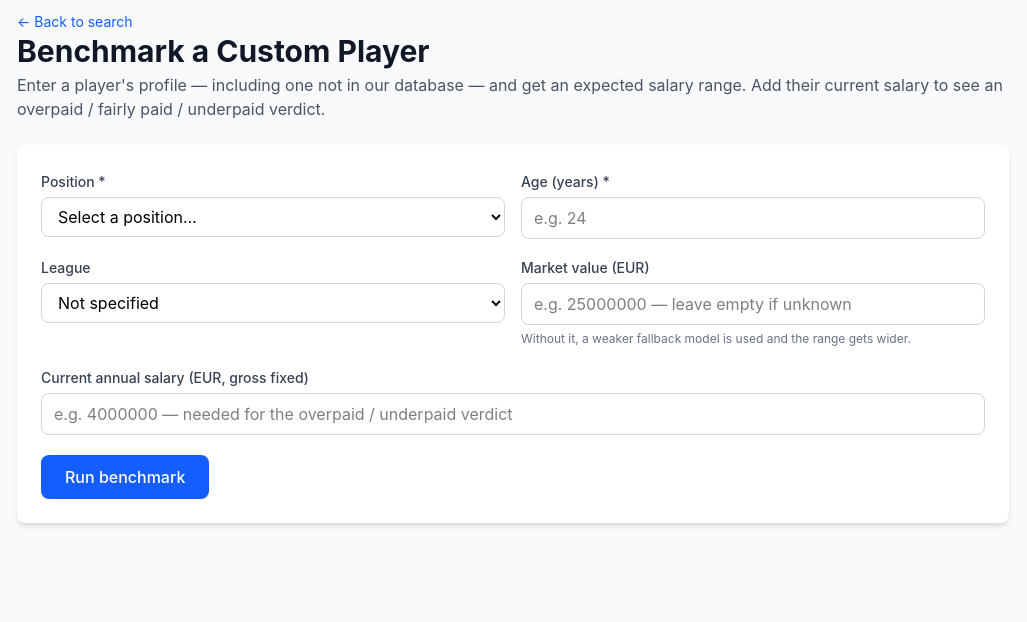
Test: ManualBenchmark page › shows the backend error message when the benchmark fails
Select "Centre-Forward" in the dropdown labelled "Position *": (273, 217) [41,197,505,237]
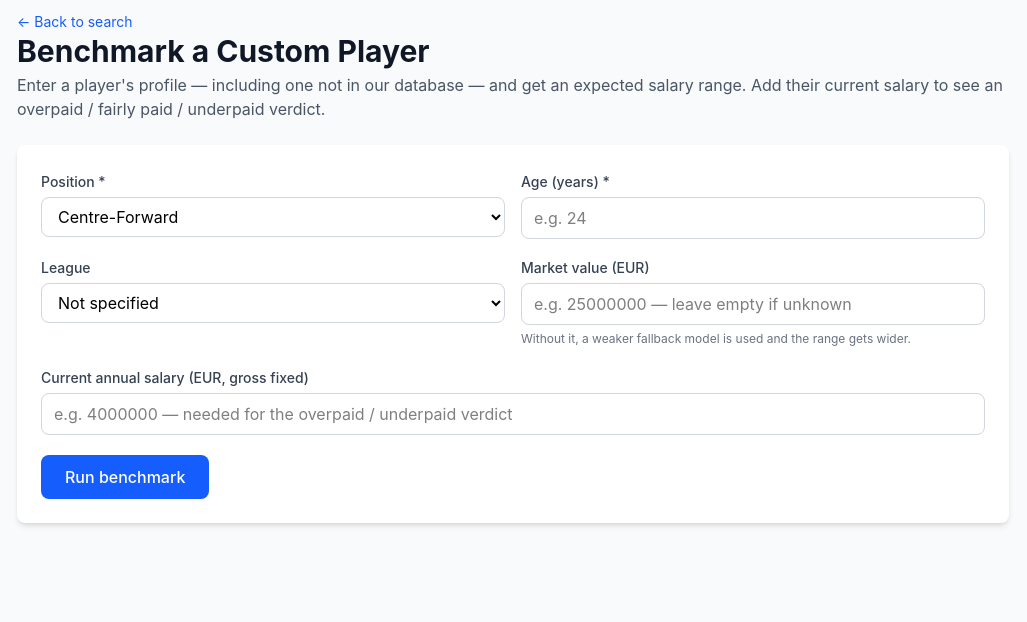
In the number field labelled "Age (years) *": (753, 218) [521,197,985,239], type "25"
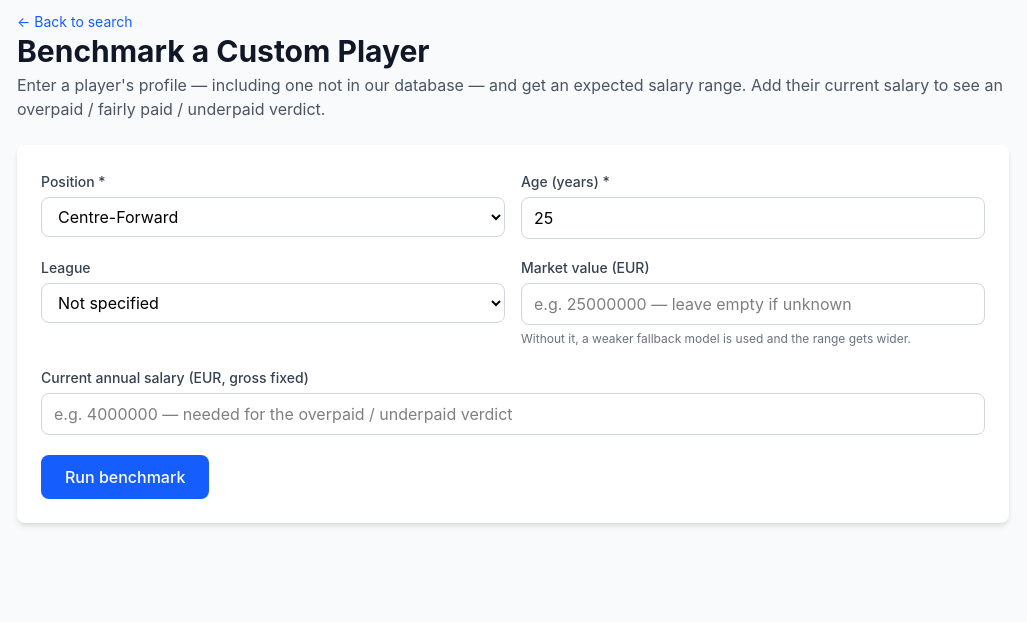
Click the button "Run benchmark": click(125, 477) [41,455,209,499]
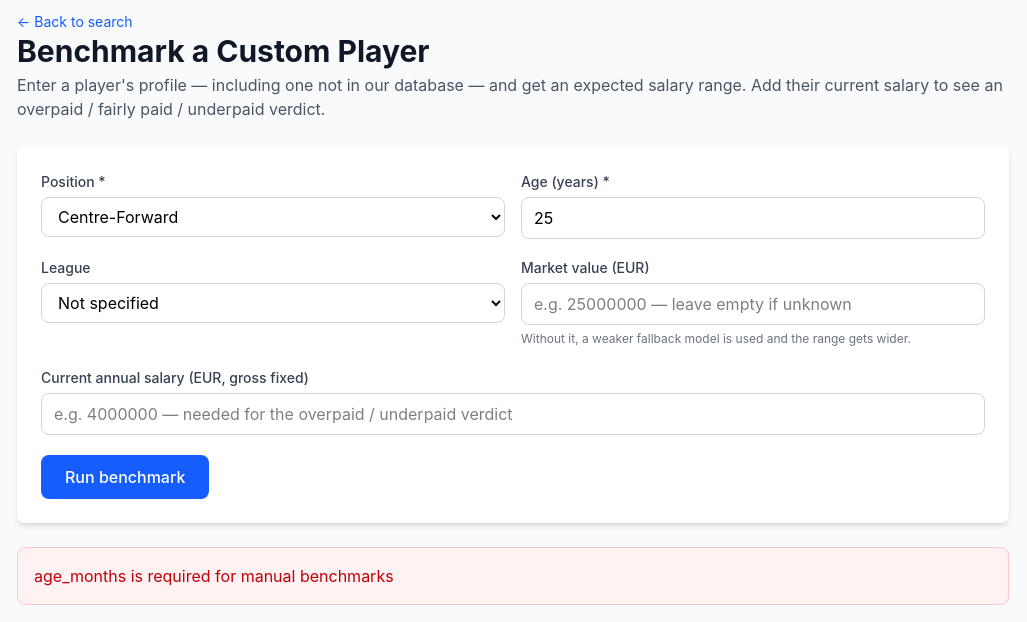
Expected: the text "age_months is required for manual benchmarks" is shown, [17,547,1009,605]
